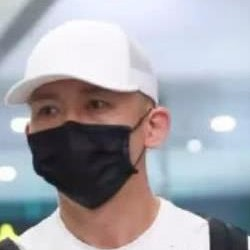mask: (27, 114, 140, 211)
